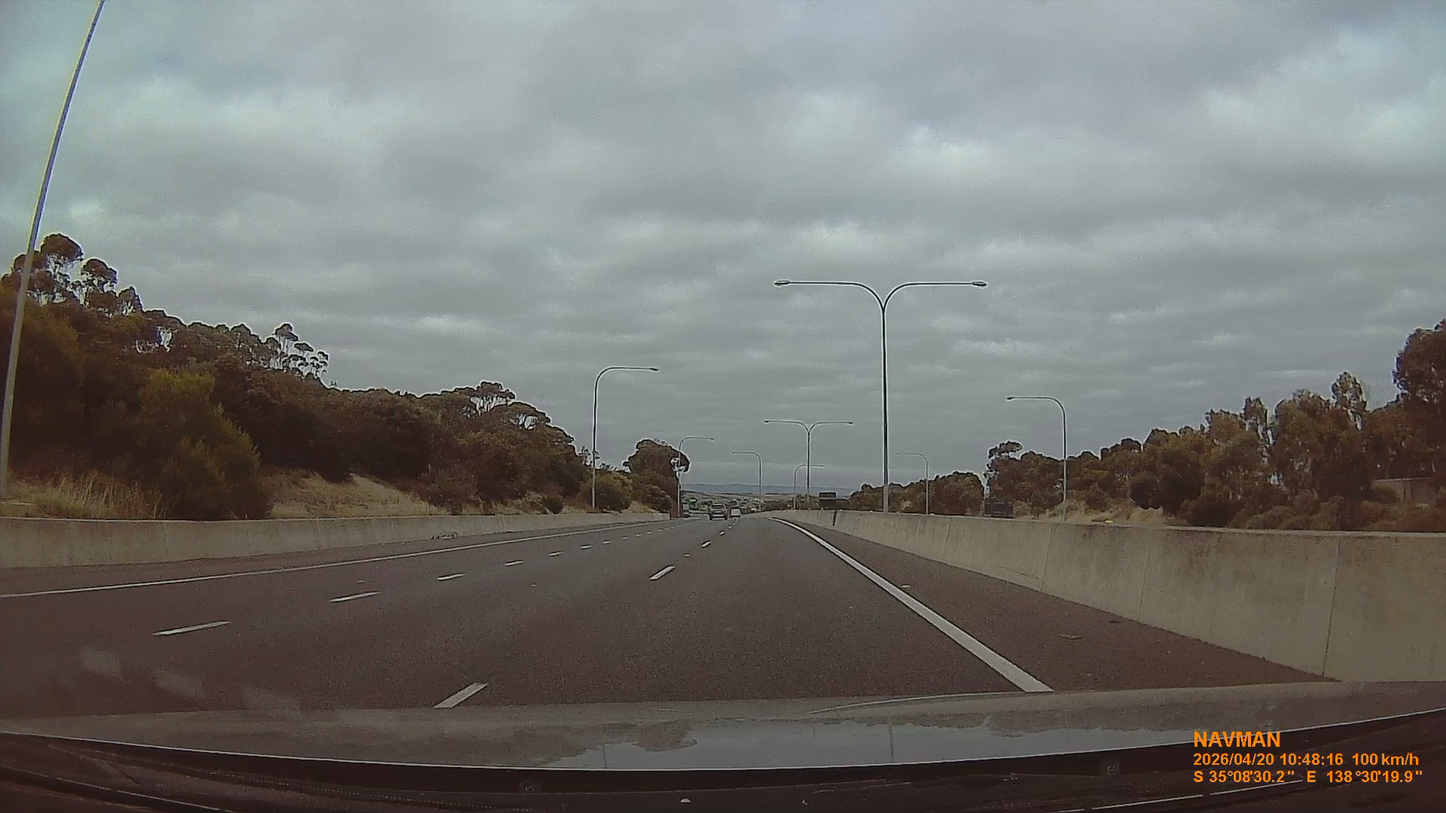road barriers: (834, 512, 1445, 682), (0, 513, 652, 571)
